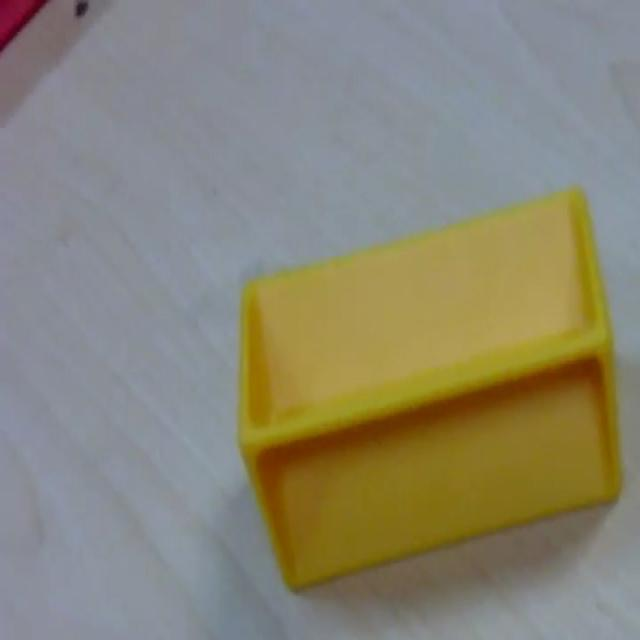yellow_block: (236, 182, 623, 590)
